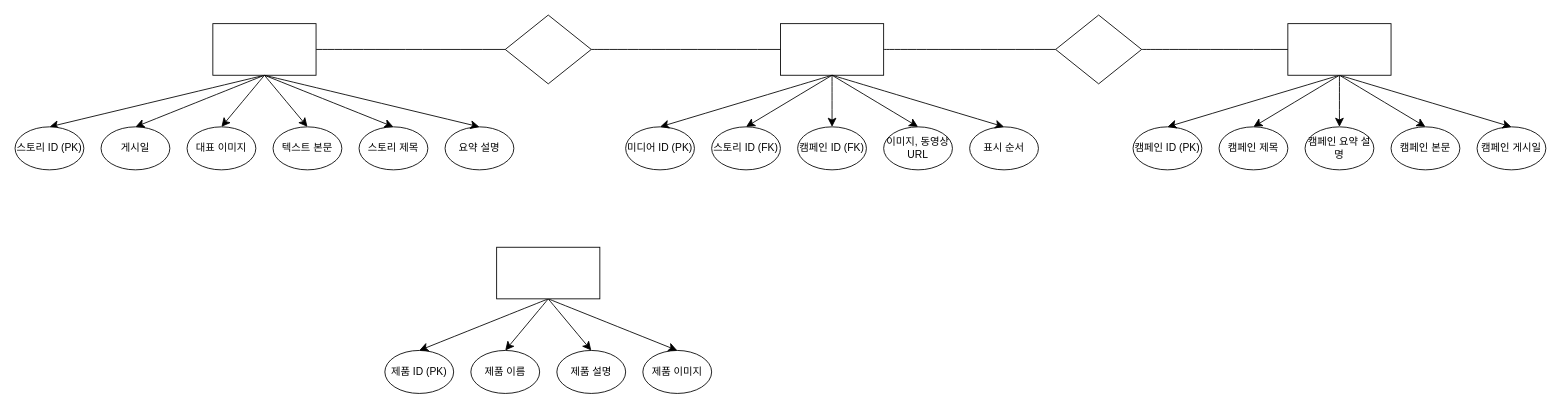
Some shapes in this 1561 by 409 pixel diagram are drawn without their labels. The shapes that lost their labels are listed below. From the top down, each one's box as (x1, y1, x2, y2) in pixels, then its label:
(212, 23, 316, 75): 스토리
(780, 23, 884, 75): 미디어
(1287, 23, 1391, 75): 캠페인
(496, 246, 600, 299): 상품
